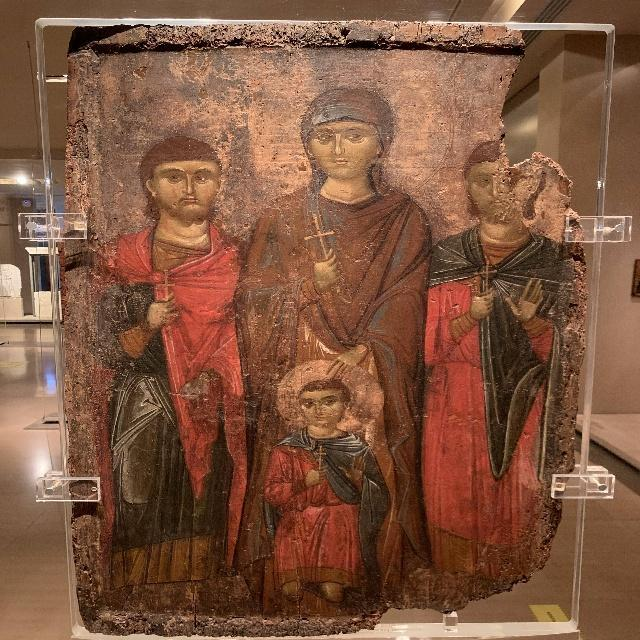aura: (247, 51, 457, 215), (274, 359, 388, 438)
christ_kid: (257, 350, 400, 621)
mary: (245, 47, 419, 625)
